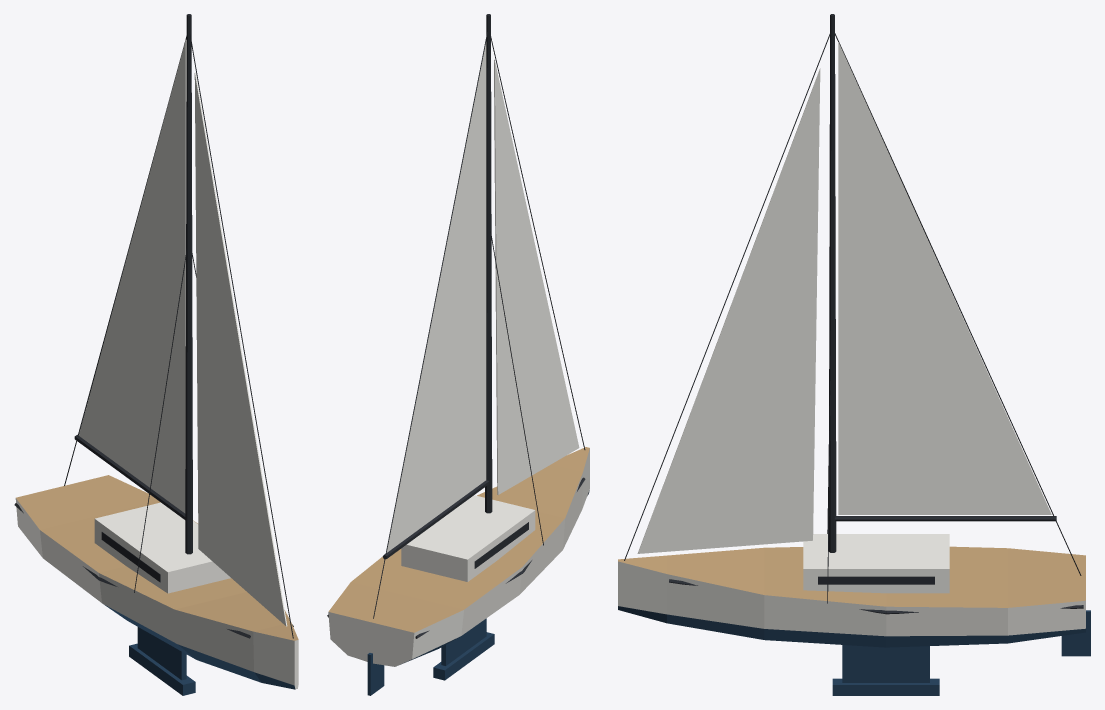
File: boat_yacht.glb
3 views of the same model, side by side, from view 1: azimuth 30°, elevation 25°; view 2: azimuth 150°, elevation 25°; view 3: azimuth 270°, elevation 25° (orthographic). The views are drawn at different scales.
Visible parts, largest first — view 1: Boat_Yacht, Yacht_Sail, Yacht_Jib; view 2: Boat_Yacht, Yacht_Sail, Yacht_Jib; view 3: Boat_Yacht, Yacht_Sail, Yacht_Jib.
Part boxes in pixels (x1,y1,x2,y2): Boat_Yacht: (14, 14, 298, 695); Yacht_Sail: (74, 39, 186, 519); Yacht_Jib: (194, 72, 287, 626); Boat_Yacht: (327, 14, 589, 695); Yacht_Sail: (382, 42, 489, 559); Yacht_Jib: (494, 59, 579, 494); Boat_Yacht: (618, 14, 1090, 695); Yacht_Sail: (834, 42, 1056, 521); Yacht_Jib: (637, 68, 820, 553).
Bounding box in the file's own units: 3.08 × 15.35 × 9.7.
